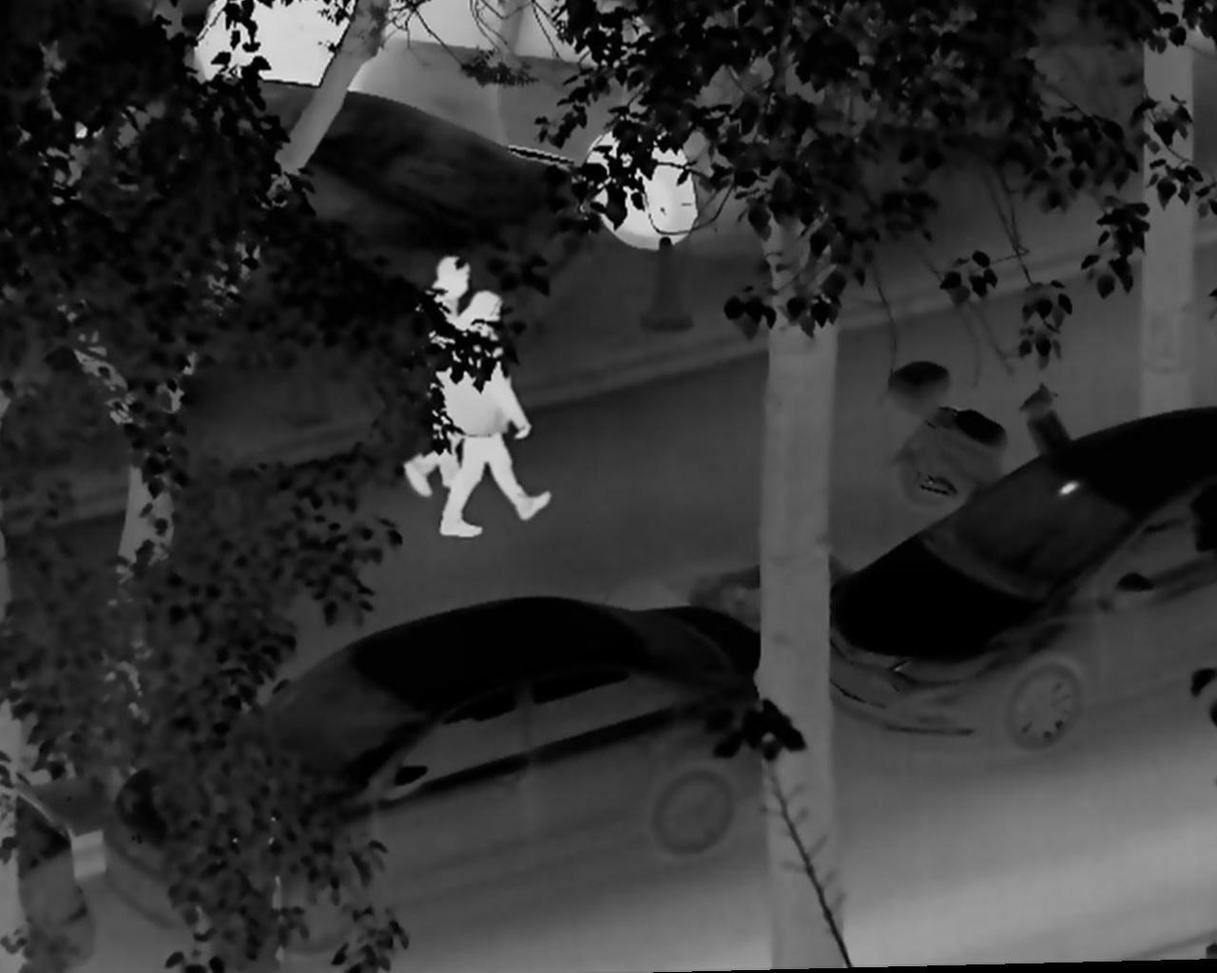person: (425, 291, 552, 539), (401, 252, 503, 500)
